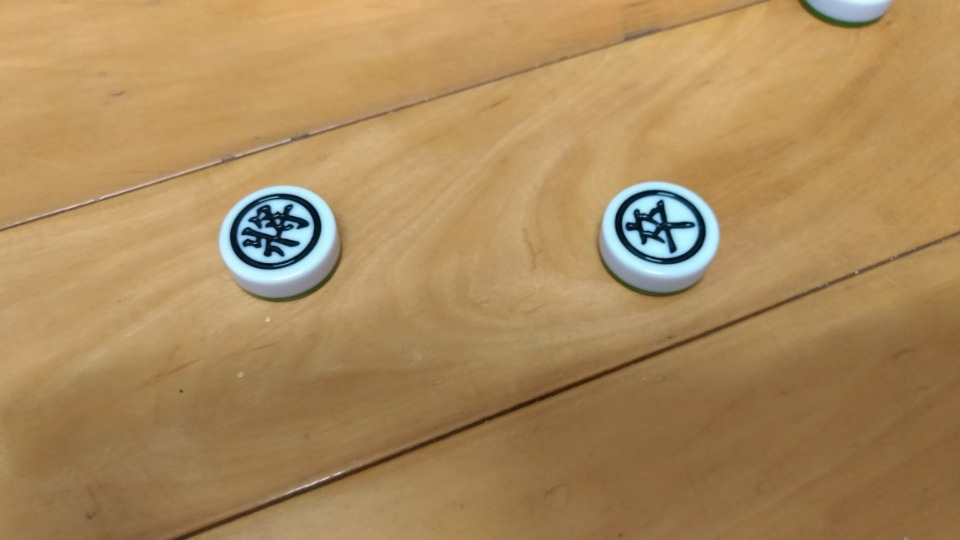b-king: (203, 172, 360, 310)
b-pawn: (584, 165, 728, 309)
